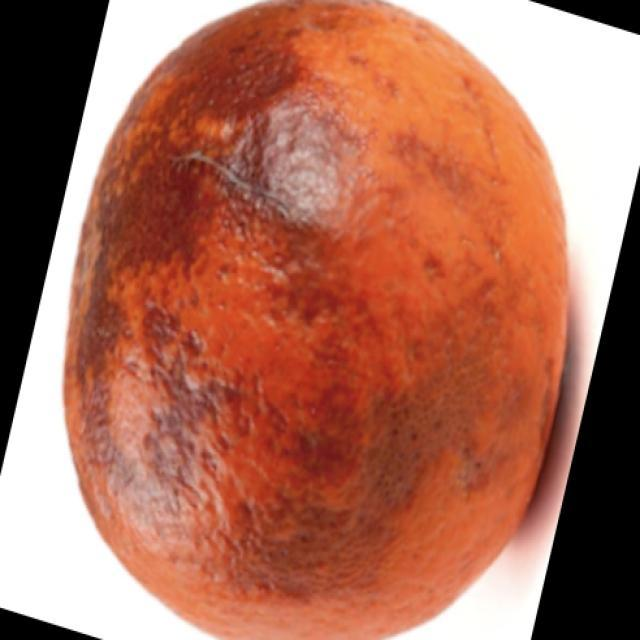sangat-busuk: (65, 0, 566, 639)
